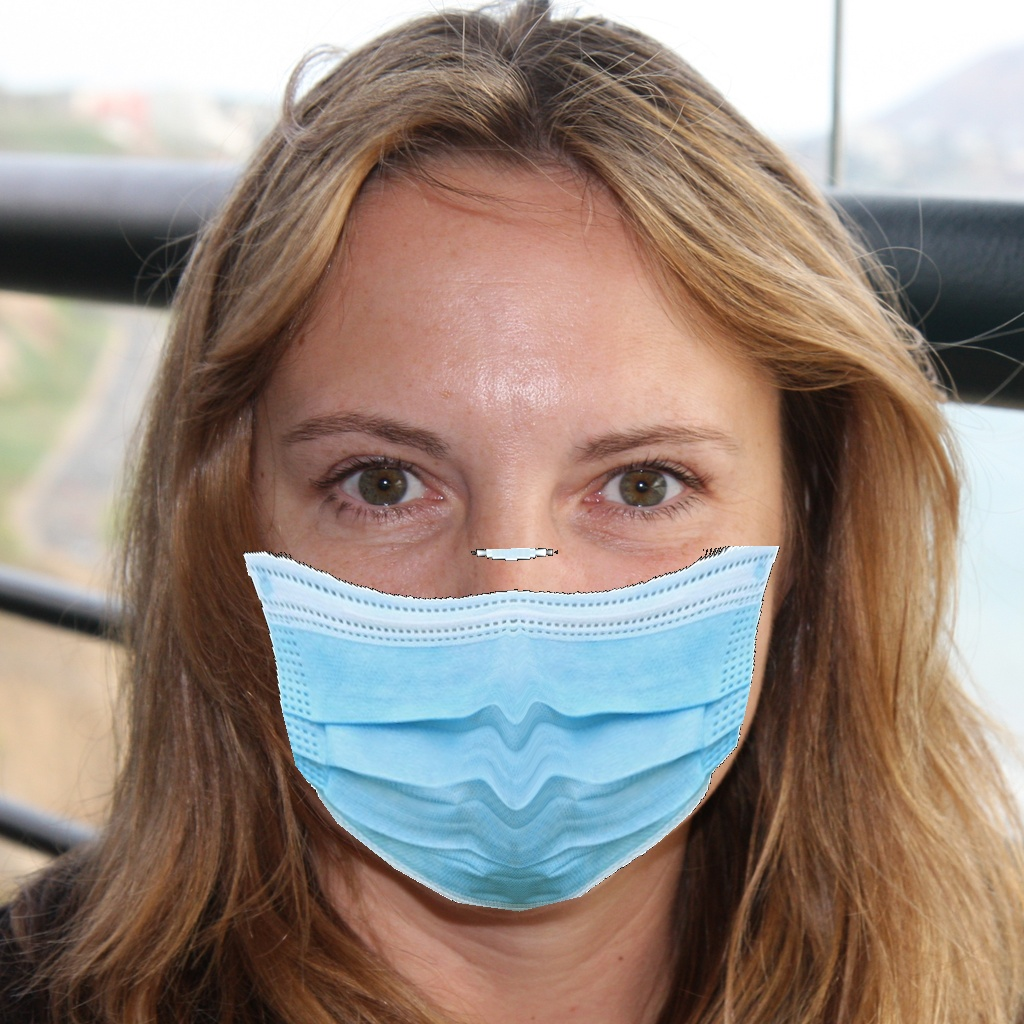Mask: (244, 383, 777, 912)
